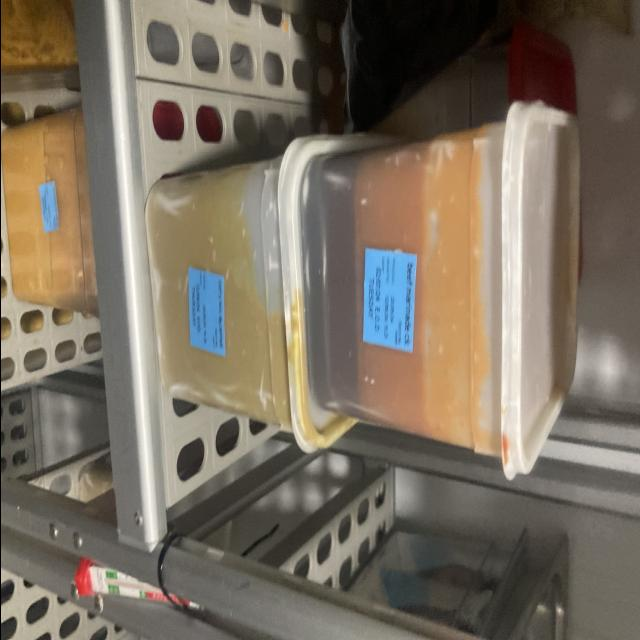product-labels: (360, 248, 417, 351), (187, 267, 227, 360), (36, 182, 59, 234)
